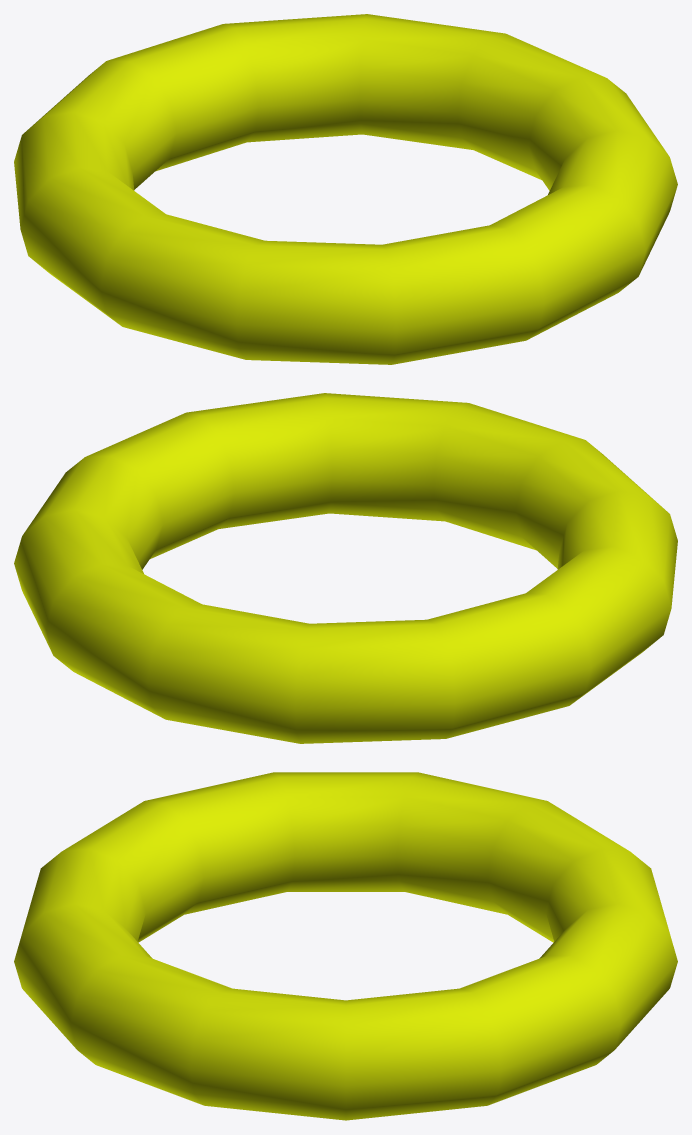
The model's file is Bonus ring.fbx.
3 views of the same model, one above another, from view 1: azimuth 30°, elevation 25°; view 2: azimuth 150°, elevation 25°; view 3: azimuth 270°, elevation 25° (orthographic).
Visible parts, largest first — view 1: Torus; view 2: Torus; view 3: Torus.
Boxes of the visible parts, x1=… form: Torus: x1=14, y1=14, x2=677, y2=364; Torus: x1=14, y1=393, x2=677, y2=743; Torus: x1=14, y1=772, x2=677, y2=1120.
Bounding box in the file's own units: 120 × 22 × 121.
